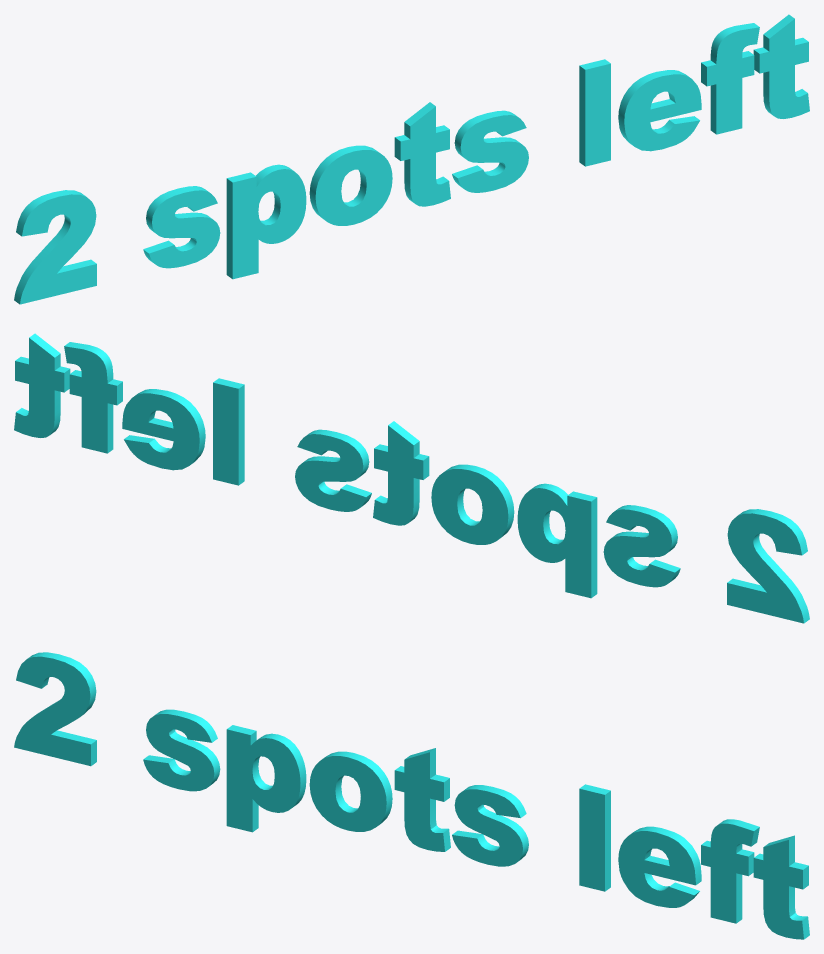
File: 2 spots left.dae
3 renders of one model, top to bottom at view 1: azimuth 30°, elevation 25°; view 2: azimuth 150°, elevation 25°; view 3: azimuth 330°, elevation 25°, orthographic.
Parts seen in each view (by area): view 1: _2_spots_left (×10); view 2: _2_spots_left (×10); view 3: _2_spots_left (×10).
Boxes of the visible parts, left/top/right/bottom form: _2_spots_left (×10): left=14, top=14, right=809, bottom=304; _2_spots_left (×10): left=14, top=333, right=809, bottom=623; _2_spots_left (×10): left=14, top=652, right=809, bottom=939.
Size of the model in its own units: 8.45 by 0.11 by 1.28.
